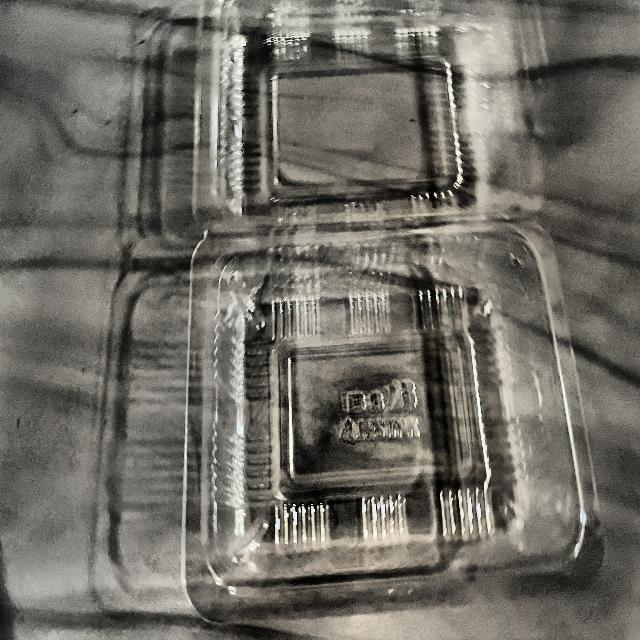plastic container: (193, 24, 577, 606)
